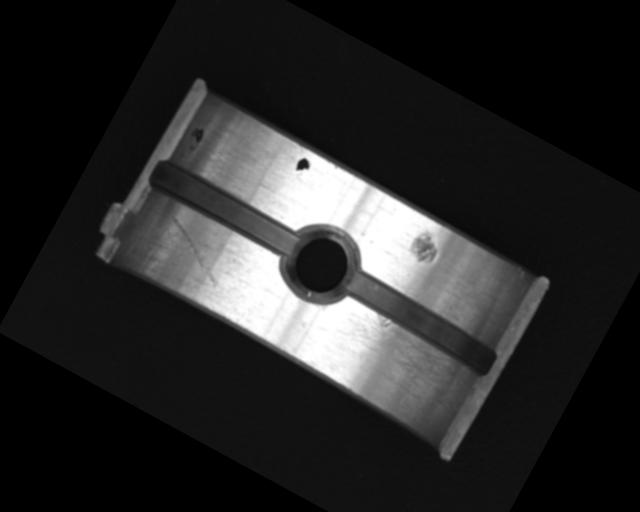blot: (182, 124, 208, 155), (291, 154, 313, 178)
bruise: (405, 227, 444, 268)
gap: (335, 264, 504, 380), (146, 156, 305, 263)
hole: (268, 211, 368, 315)
nick: (149, 213, 238, 291)
scratch: (305, 290, 476, 429)
